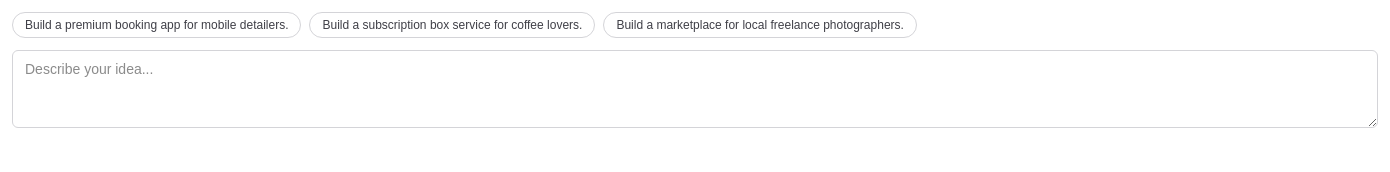
it: IdeaTextarea (Example App Ideas picker) › selecting a different chip cleanly replaces the text, not appends to it
Step 1. Click the button "Build a premium booking app for mobile detailers." → (157, 25), box [12,12,302,38]
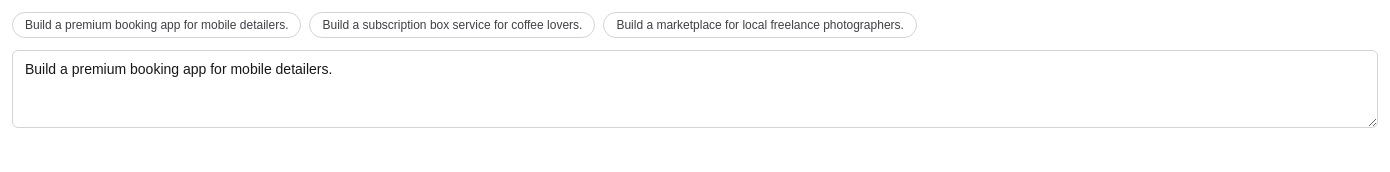
Step 2. Click the button "Build a subscription box service for coffee lovers." → (452, 25), box [310,12,595,38]
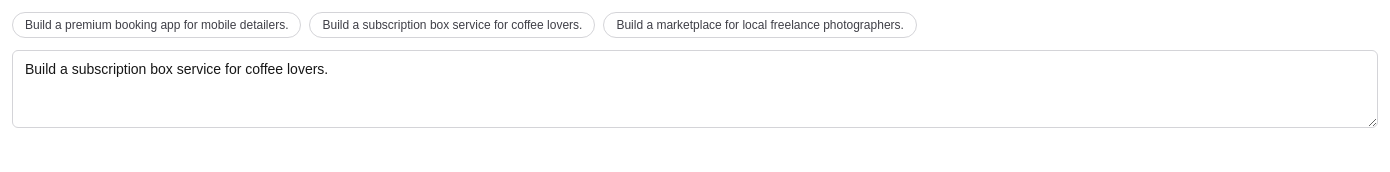
Check: the text box holds "Build a subscription box service for coffee lovers.", box [12,50,1378,128]
